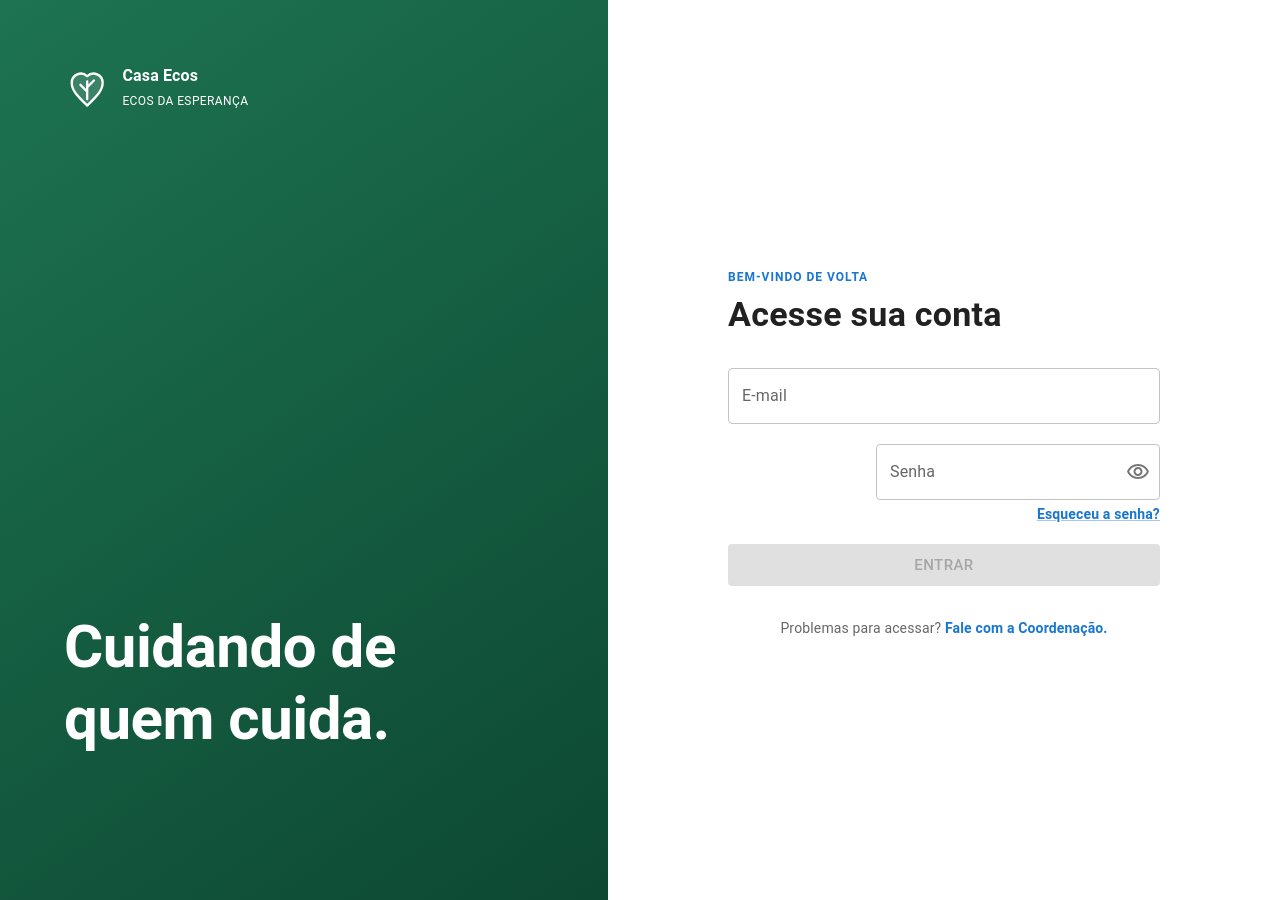
Test case: App › mostra a mensagem da API para credenciais inválidas
Type "maria@ecos.org" into the field labelled "E-mail".
click(944, 396); type("maria@ecos.org")  # box [728,368,1160,424]
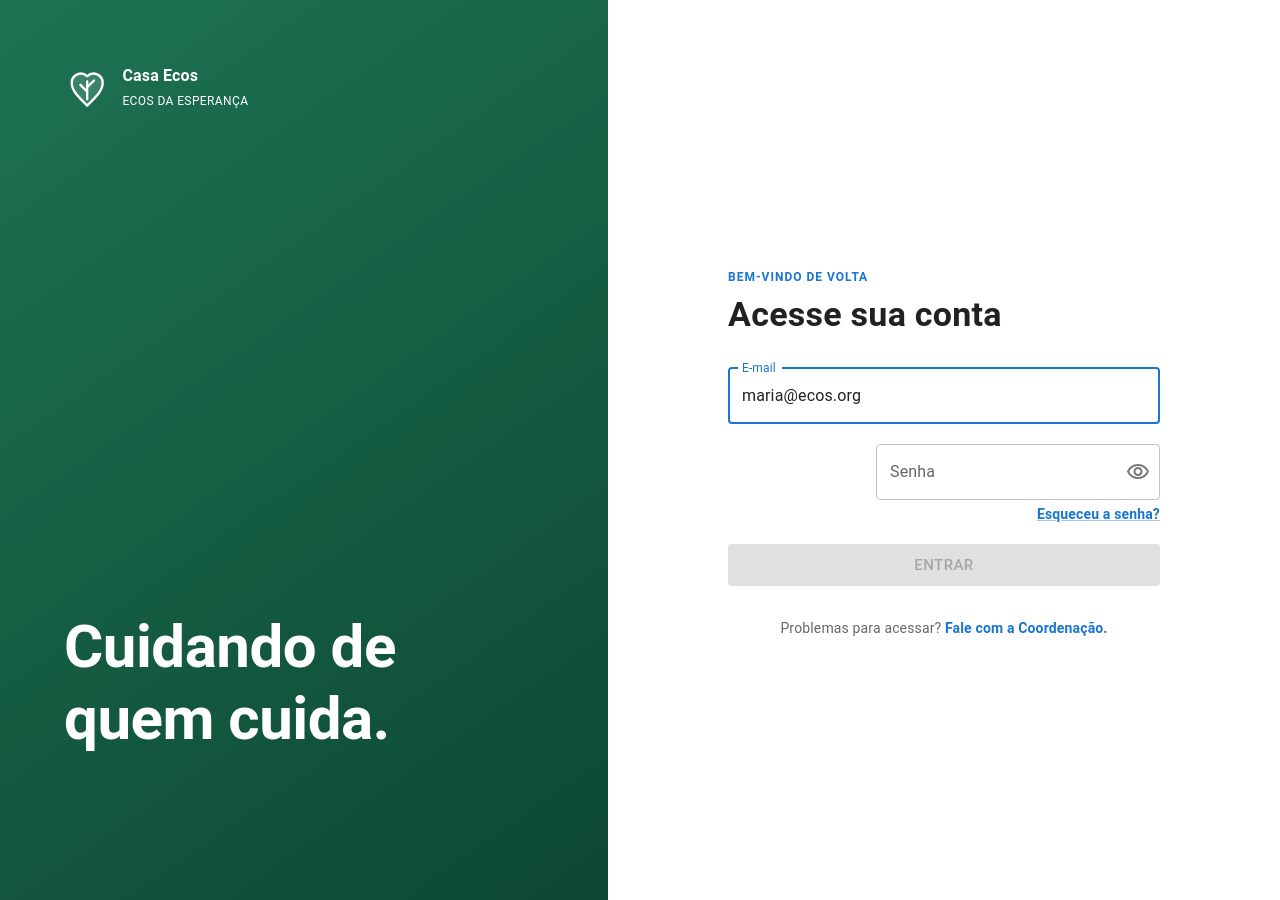
Type "senha-errada" into the password field labelled "Senha".
click(993, 472); type("senha-errada")  # box [876,444,1110,500]
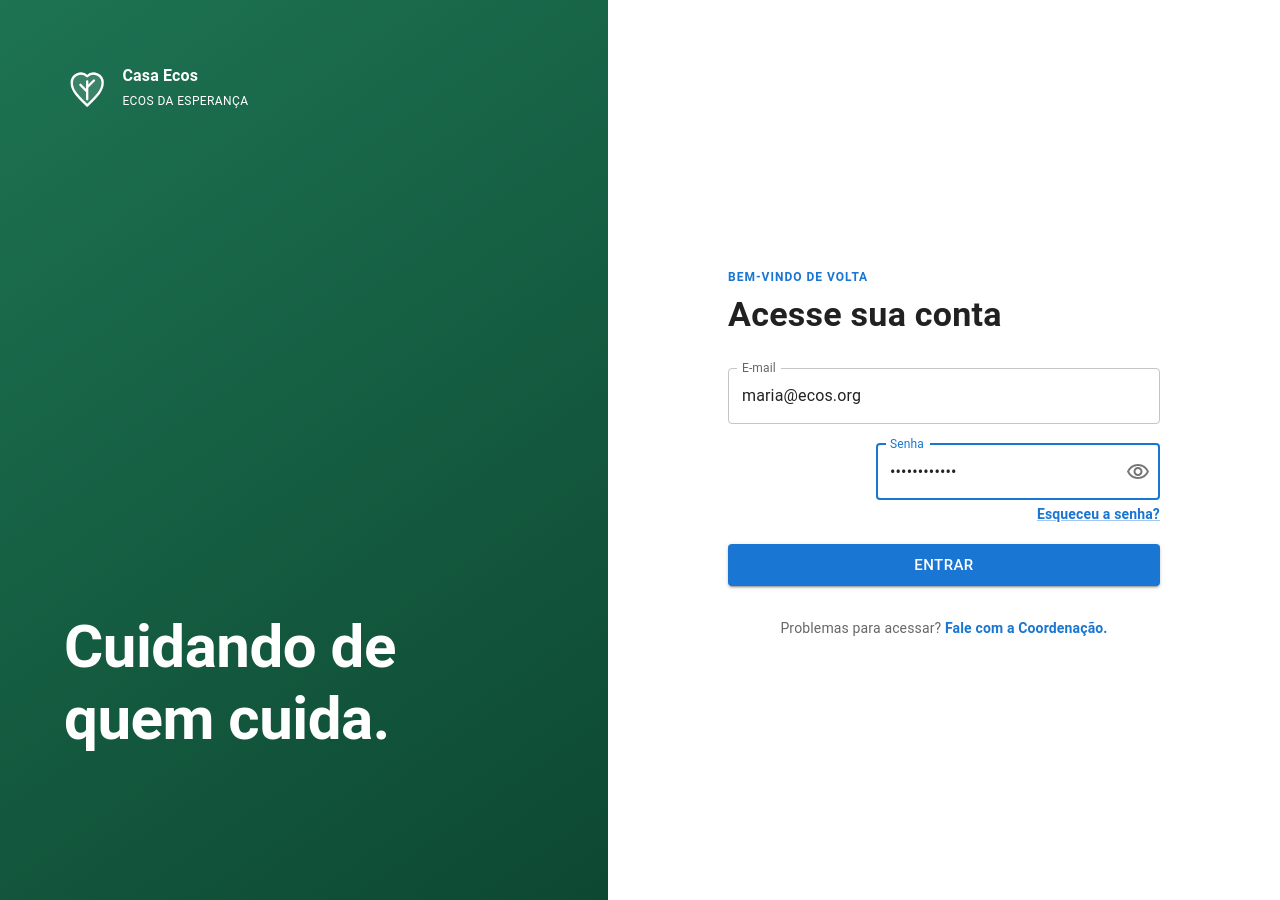
Click the button "Entrar".
click(944, 565)  # box [728,544,1160,586]
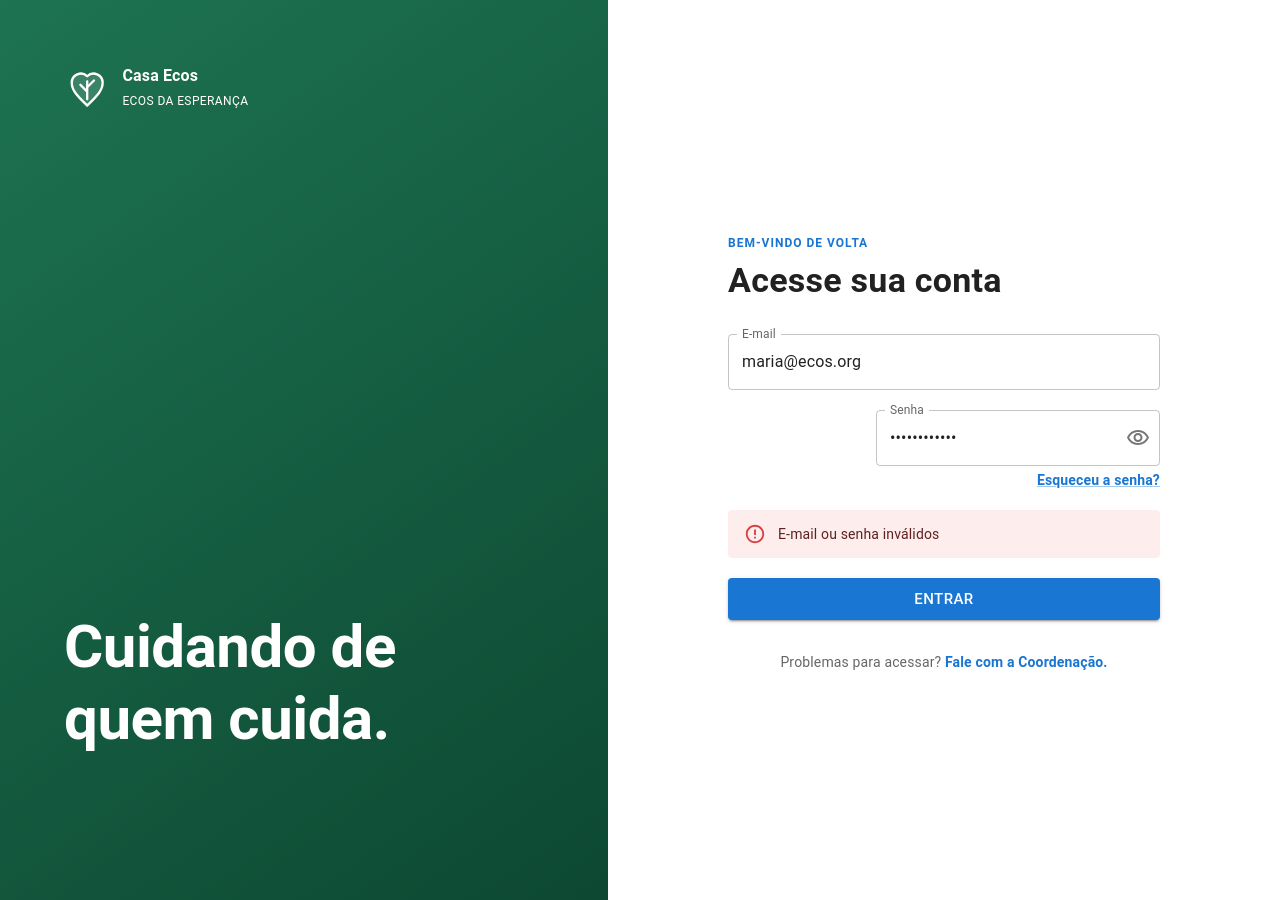
Expected: the message reads "E-mail ou senha inválidos", [778,526,940,542]
